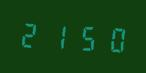five: (72, 20, 98, 54)
one: (45, 18, 71, 52)
two: (18, 17, 44, 51)
zero: (99, 21, 125, 55)
